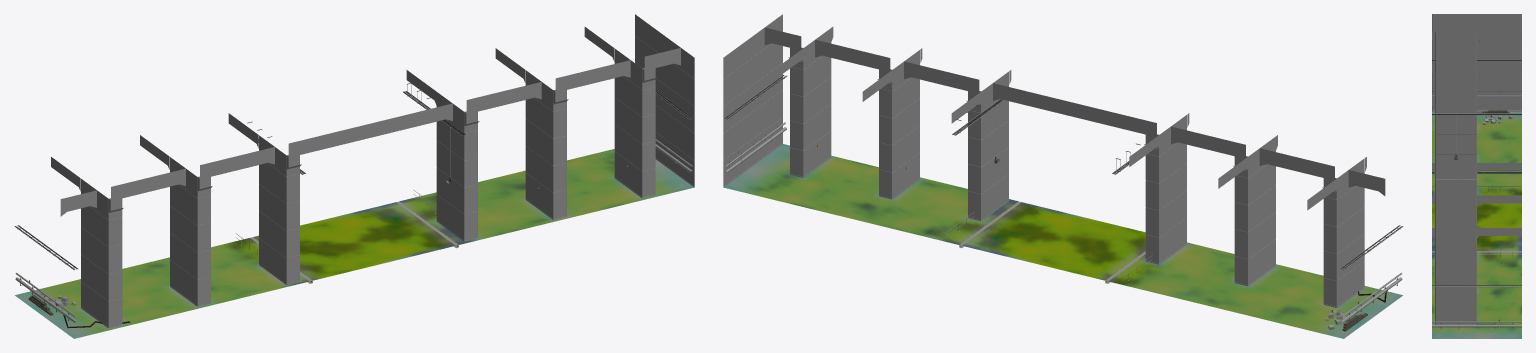
File: cistern_bay_c.glb
3 views of the same model, side by side, from view 1: azimuth 30°, elevation 25°; view 2: azimuth 150°, elevation 25°; view 3: azimuth 270°, elevation 25° (orthographic). The views are drawn at different scales.
Visible parts, largest first — view 1: CIS_Shell, CIS_Floor, CIS_Galv, CIS_Steel; view 2: CIS_Shell, CIS_Floor, CIS_Galv, CIS_Steel; view 3: CIS_Shell, CIS_Floor, CIS_Galv, CIS_Steel.
Boxes of the visible parts, x1=… form: CIS_Shell: x1=39, y1=14, x2=694, y2=328; CIS_Floor: x1=15, y1=149, x2=693, y2=338; CIS_Galv: x1=14, y1=83, x2=694, y2=322; CIS_Steel: x1=15, y1=83, x2=693, y2=328; CIS_Shell: x1=723, y1=14, x2=1385, y2=329; CIS_Floor: x1=724, y1=144, x2=1402, y2=338; CIS_Galv: x1=723, y1=75, x2=1403, y2=322; CIS_Steel: x1=724, y1=75, x2=1402, y2=331; CIS_Shell: x1=1432, y1=14, x2=1521, y2=324; CIS_Floor: x1=1432, y1=111, x2=1521, y2=338; CIS_Galv: x1=1432, y1=59, x2=1521, y2=327; CIS_Steel: x1=1432, y1=60, x2=1521, y2=328.
Bounding box in the file's own units: 90.03 × 18.35 × 15.
